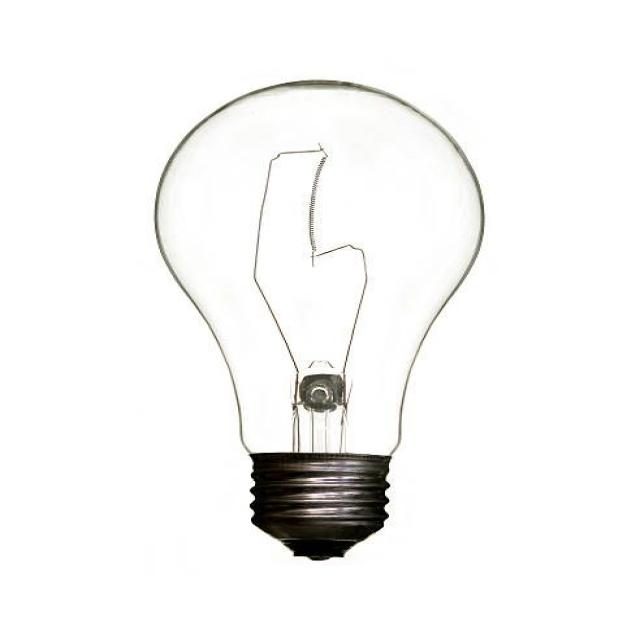electronic: (152, 78, 485, 560)
